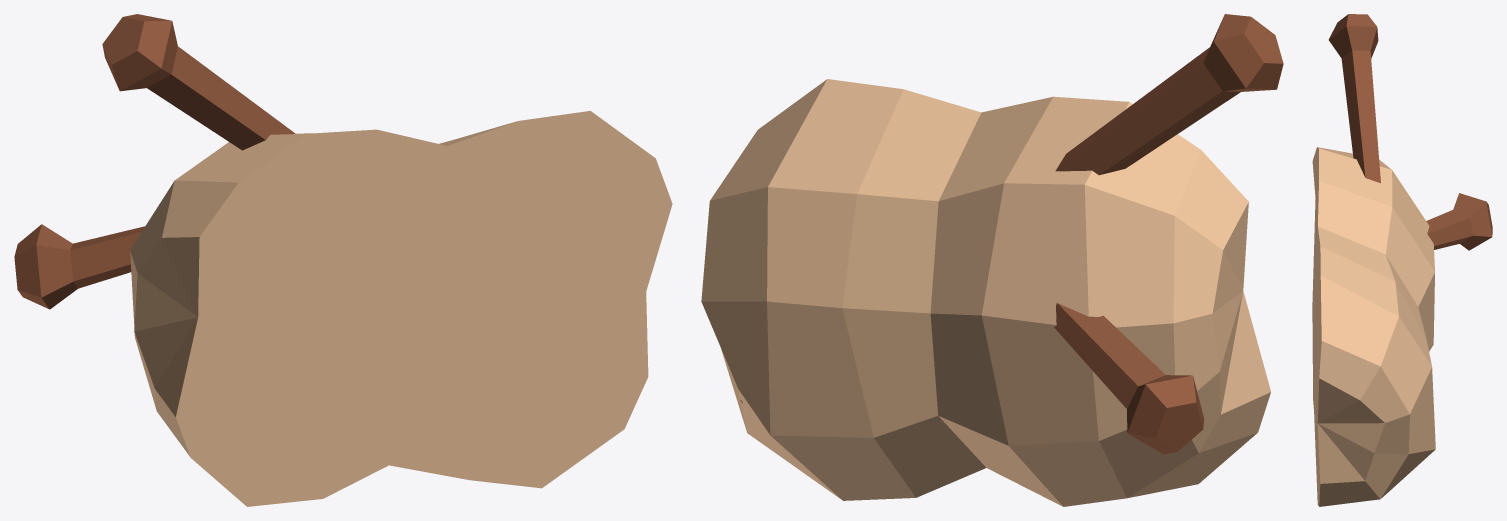
The model's file is icon_wool.fbx.
3 views of the same model, side by side, from view 1: azimuth 30°, elevation 25°; view 2: azimuth 150°, elevation 25°; view 3: azimuth 270°, elevation 25° (orthographic). The views are drawn at different scales.
Parts seen in each view (by area): view 1: Icon_wool; view 2: Icon_wool; view 3: Icon_wool.
Part boxes in pixels (left/top/right/bottom): Icon_wool: left=14, top=14, right=672, bottom=506; Icon_wool: left=701, top=14, right=1283, bottom=506; Icon_wool: left=1312, top=14, right=1492, bottom=506.
Bounding box in the file's own units: 43.16 × 40.84 × 18.18.
